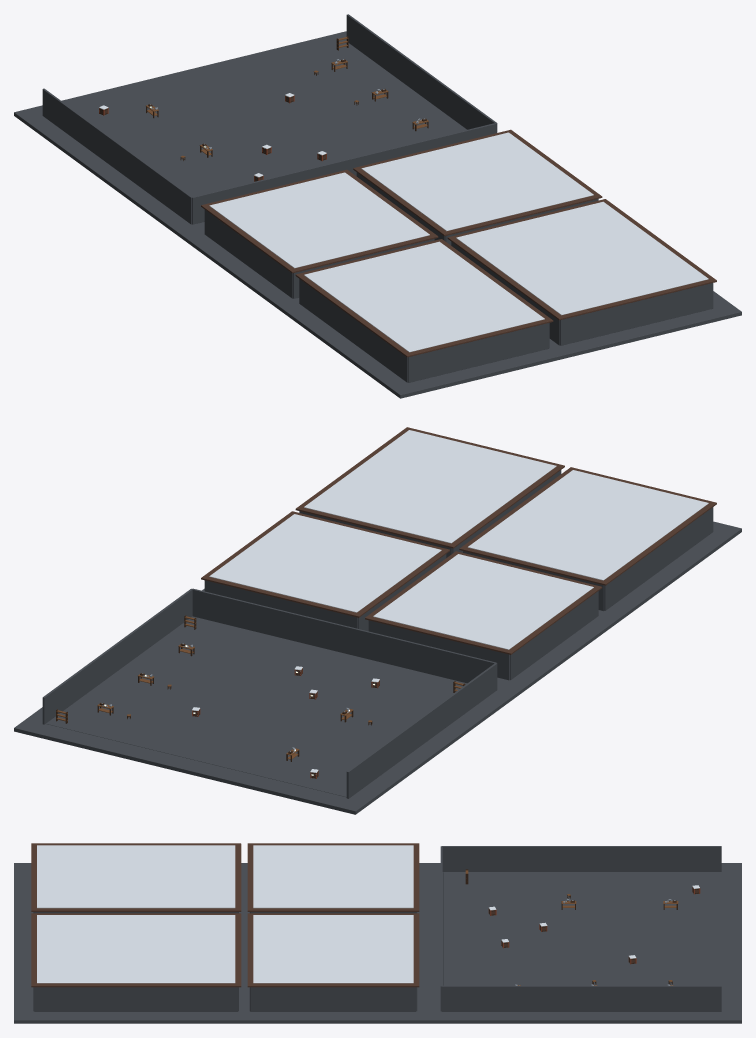
Rendered from Station_Complex_0_0.fbx.
The picture shows the model from 3 angles, top to bottom: view 1: azimuth 30°, elevation 25°; view 2: azimuth 150°, elevation 25°; view 3: azimuth 270°, elevation 25°; orthographic projection. The views are drawn at different scales.
Visible parts, largest first — view 1: Station_Complex_0_0; view 2: Station_Complex_0_0; view 3: Station_Complex_0_0.
Boxes of the visible parts, x1,y1,x2,y2 form: Station_Complex_0_0: [14, 14, 741, 398]; Station_Complex_0_0: [14, 427, 741, 814]; Station_Complex_0_0: [14, 843, 741, 1023].
Size of the model in its own units: 5840 by 538 by 11440.
